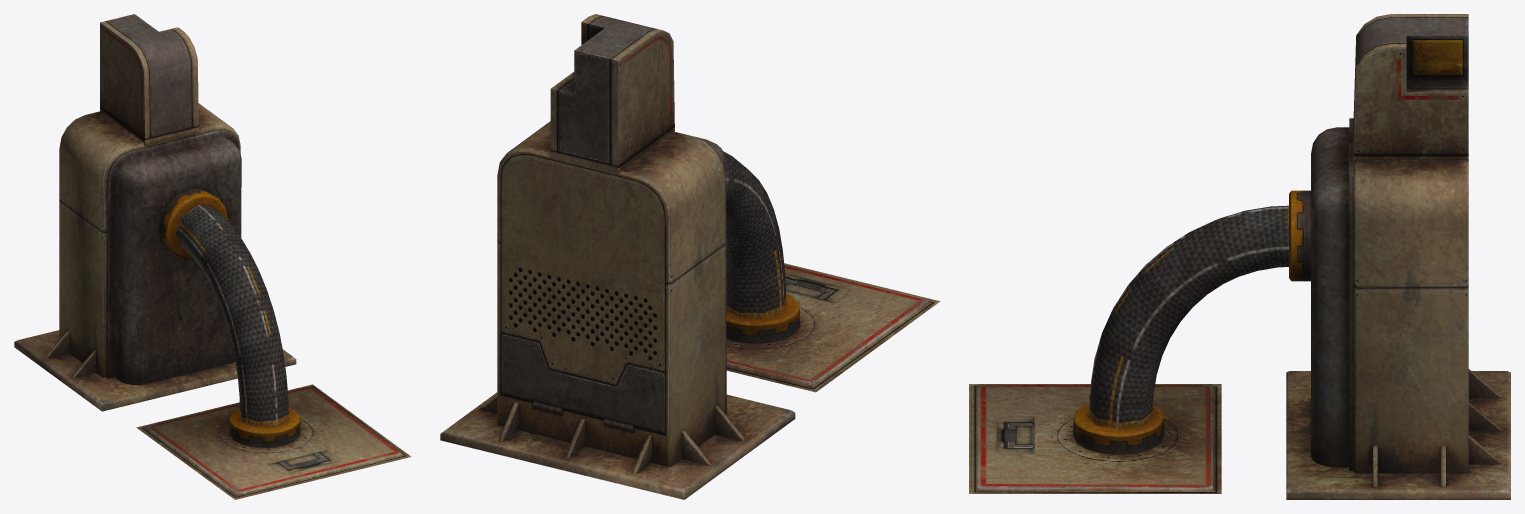
File: current_transformer_connection.dae
3 views of the same model, side by side, from view 1: azimuth 30°, elevation 25°; view 2: azimuth 150°, elevation 25°; view 3: azimuth 270°, elevation 25° (orthographic). The views are drawn at different scales.
Visible parts, largest first — view 1: low; view 2: low; view 3: low.
Part boxes in pixels (x1,y1,x2,y2): low: (14,14,411,499); low: (440,14,939,499); low: (969,14,1510,499).
Bounding box in the file's own units: 0.875 × 1.38 × 1.66.
